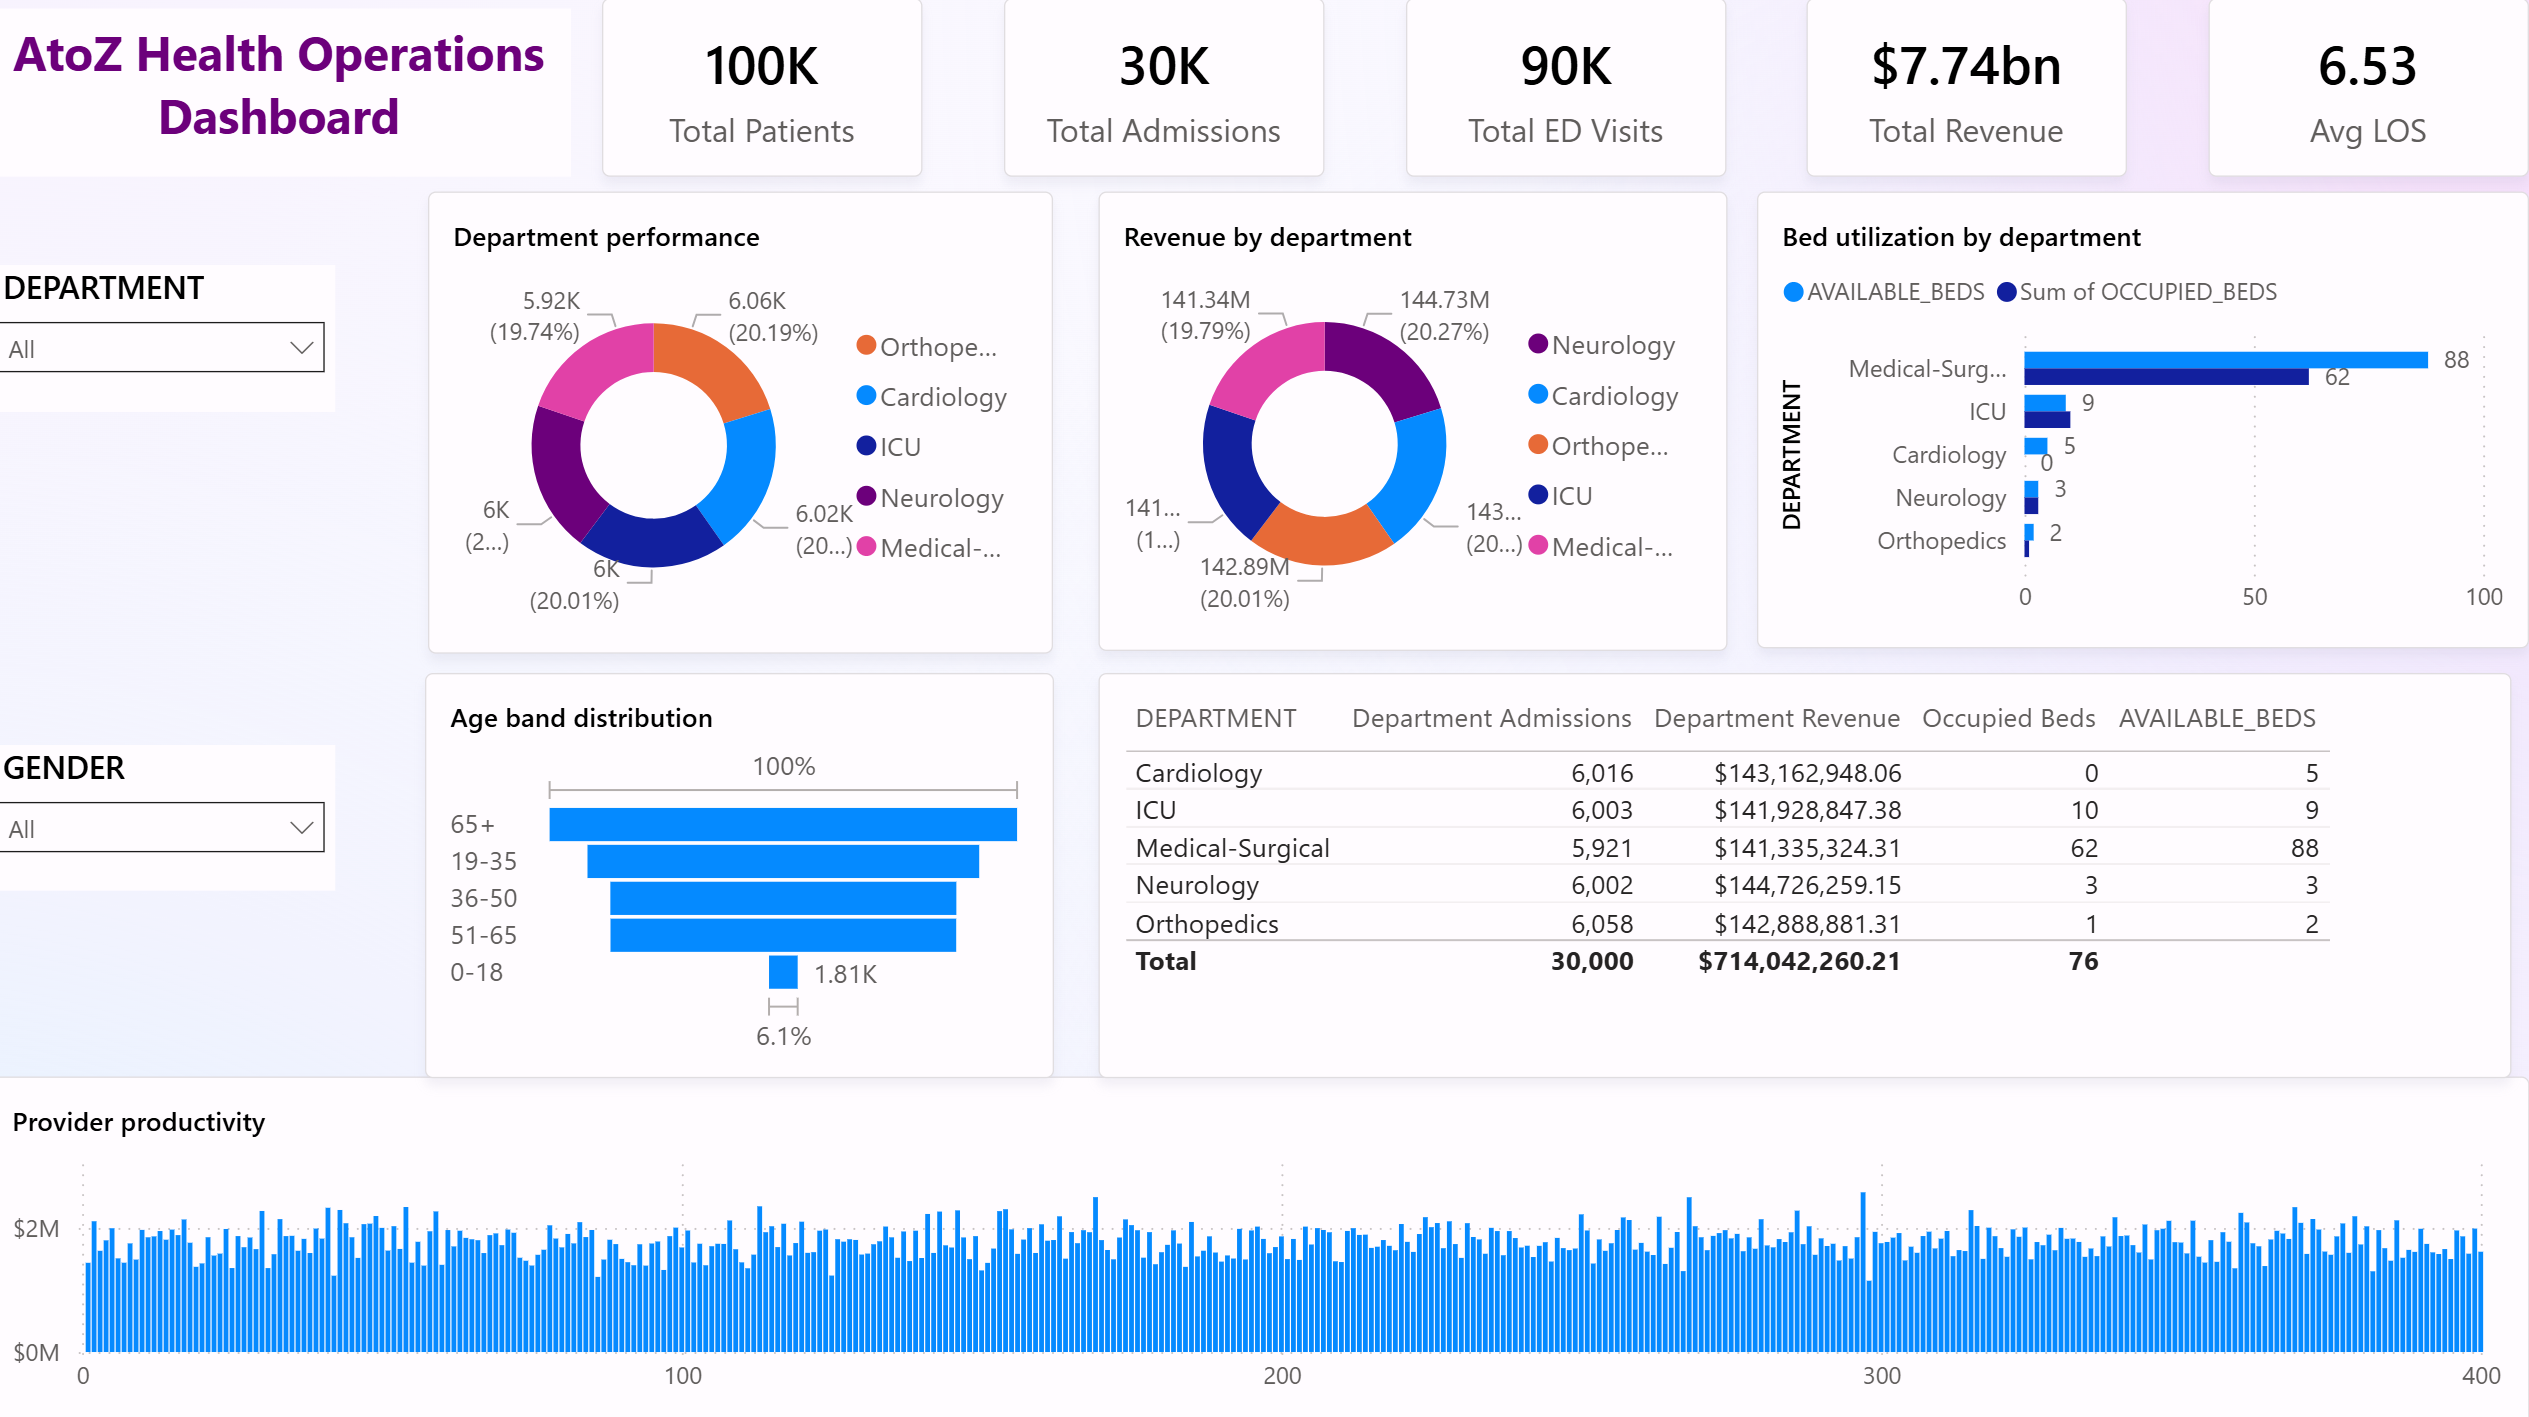

The page's visual inventory and layout, read from the dashboard file:
{"tool":"powerbi","page":{"name":"Page 1","canvas":[1280,720],"ordinal":0},"visuals":[{"type":"card","fields":{"Values":["HOSPITAL_KPI_SUMMARY.Total Patients"]},"box":[309.6,0,161.6,89.9],"z":1000},{"type":"card","fields":{"Values":["HOSPITAL_KPI_SUMMARY.Total Admissions"]},"box":[512,0,161.6,89.9],"z":2000},{"type":"card","fields":{"Values":["HOSPITAL_KPI_SUMMARY.Total ED Visits"]},"box":[714.4,0,161.6,89.9],"z":3000},{"type":"card","fields":{"Values":["HOSPITAL_KPI_SUMMARY.Total Revenue"]},"box":[916,0,161.6,89.9],"z":4000},{"type":"card","fields":{"Values":["HOSPITAL_KPI_SUMMARY.Avg LOS"]},"box":[1118.4,0,161.6,89.9],"z":5000},{"type":"donutChart","title":"Department performance","fields":{"Category":["DEPARTMENT_OPERATIONAL_KPI_SUMMARY.DEPARTMENT"],"Y":["Sum(DEPARTMENT_OPERATIONAL_KPI_SUMMARY.TOTAL_ADMISSIONS)"]},"box":[222,97.4,314.9,232.6],"z":6000},{"type":"donutChart","title":"Revenue by department","fields":{"Category":["DEPARTMENT_OPERATIONAL_KPI_SUMMARY.DEPARTMENT"],"Y":["Sum(DEPARTMENT_OPERATIONAL_KPI_SUMMARY.TOTAL_REVENUE)"]},"box":[559.6,97.4,316.4,231.1],"z":7000},{"type":"clusteredBarChart","title":"Bed utilization by department","fields":{"Y":["Sum(DEPARTMENT_OPERATIONAL_KPI_SUMMARY.AVAILABLE_BEDS)","Sum(DEPARTMENT_OPERATIONAL_KPI_SUMMARY.OCCUPIED_BEDS)"],"Category":["DEPARTMENT_OPERATIONAL_KPI_SUMMARY.DEPARTMENT"]},"box":[891.1,97.7,388.9,230.3],"z":8000},{"type":"lineStackedColumnComboChart","title":"Provider productivity","fields":{"Category":["PROVIDER_SUMMARY.PROVIDER_ID"],"Y":["HOSPITAL_KPI_SUMMARY.Provider Revenue"]},"box":[0,543,1280,176.7],"z":9000},{"type":"funnel","title":"Age band distribution","fields":{"Category":["PATIENT_SUMMARY.AGE_BAND"],"Y":["CountNonNull(PATIENT_SUMMARY.PATIENT_ID)"]},"box":[220.5,339.6,316.4,203.9],"z":10000},{"type":"tableEx","fields":{"Values":["DEPARTMENT_SUMMARY.DEPARTMENT","HOSPITAL_KPI_SUMMARY.Department Admissions","HOSPITAL_KPI_SUMMARY.Department Revenue","HOSPITAL_KPI_SUMMARY.Occupied Beds","DEPARTMENT_OPERATIONAL_KPI_SUMMARY.AVAILABLE_BEDS"]},"box":[559.6,339.6,711.4,203.9],"z":11000},{"type":"slicer","fields":{"Values":["DEPARTMENT_SUMMARY.DEPARTMENT"]},"box":[0,134.4,175.2,74],"z":12000},{"type":"slicer","fields":{"Values":["PATIENT_SUMMARY.GENDER"]},"box":[0,376.1,175.2,73.3],"z":13000},{"type":"textbox","box":[0,5.3,293.8,84.6],"z":14000}]}

Visuals, with their boxes in screenshot pixels (x1, y1, x2, y2), scaled from the page's 1280x720 canvas onto the 2529x1417 screenshot:
card - HOSPITAL_KPI_SUMMARY.Total Patients: box=[612, 0, 931, 177]
card - HOSPITAL_KPI_SUMMARY.Total Admissions: box=[1012, 0, 1331, 177]
card - HOSPITAL_KPI_SUMMARY.Total ED Visits: box=[1411, 0, 1731, 177]
card - HOSPITAL_KPI_SUMMARY.Total Revenue: box=[1810, 0, 2129, 177]
card - HOSPITAL_KPI_SUMMARY.Avg LOS: box=[2210, 0, 2528, 177]
"Department performance" donutChart: box=[439, 192, 1061, 649]
"Revenue by department" donutChart: box=[1106, 192, 1731, 647]
"Bed utilization by department" clusteredBarChart: box=[1761, 192, 2528, 646]
"Provider productivity" lineStackedColumnComboChart: box=[0, 1069, 2528, 1416]
"Age band distribution" funnel: box=[436, 668, 1061, 1070]
tableEx - DEPARTMENT_SUMMARY.DEPARTMENT x HOSPITAL_KPI_SUMMARY.Department Admissions: box=[1106, 668, 2511, 1070]
slicer - DEPARTMENT_SUMMARY.DEPARTMENT: box=[0, 265, 346, 410]
slicer - PATIENT_SUMMARY.GENDER: box=[0, 740, 346, 884]
textbox: box=[0, 10, 580, 177]
